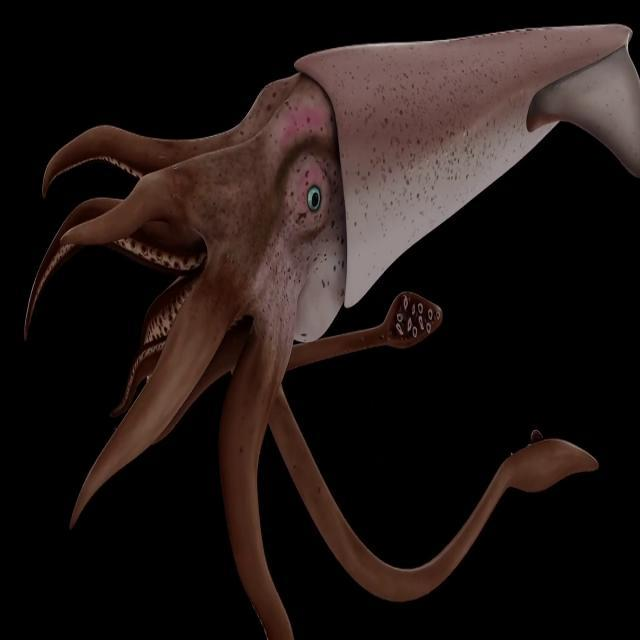squid: (27, 24, 640, 534)
